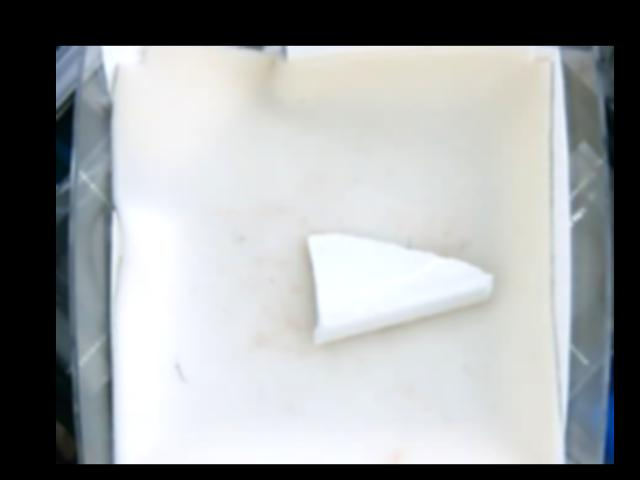China: (303, 234, 494, 345)
